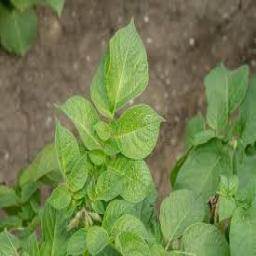Leaf: (91, 15, 149, 121), (55, 95, 105, 152), (114, 107, 166, 160), (106, 156, 156, 200), (54, 117, 82, 177), (90, 122, 110, 141)
